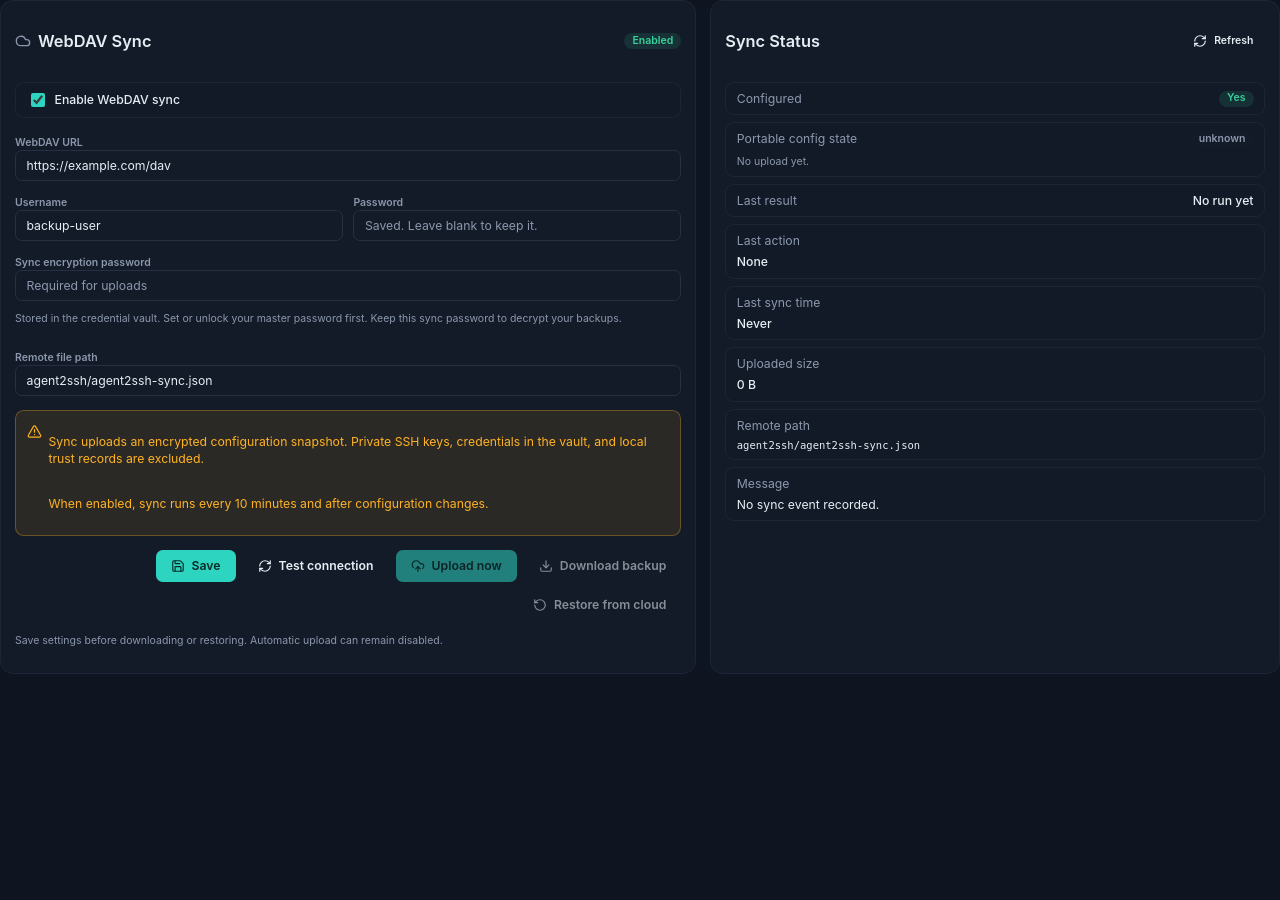
Test: SyncPanel encrypted upload settings › sends the new password only in the save request and clears it after saving
Check: the field labelled "WebDAV URL" holds "https://example.com/dav", box [15,150,681,181]
Check: the button "Save" is enabled, box [156,550,236,582]
Type "  test-encryption-password  " into the password field labelled "Sync encryption password" at [348, 286], box [15,270,681,301]
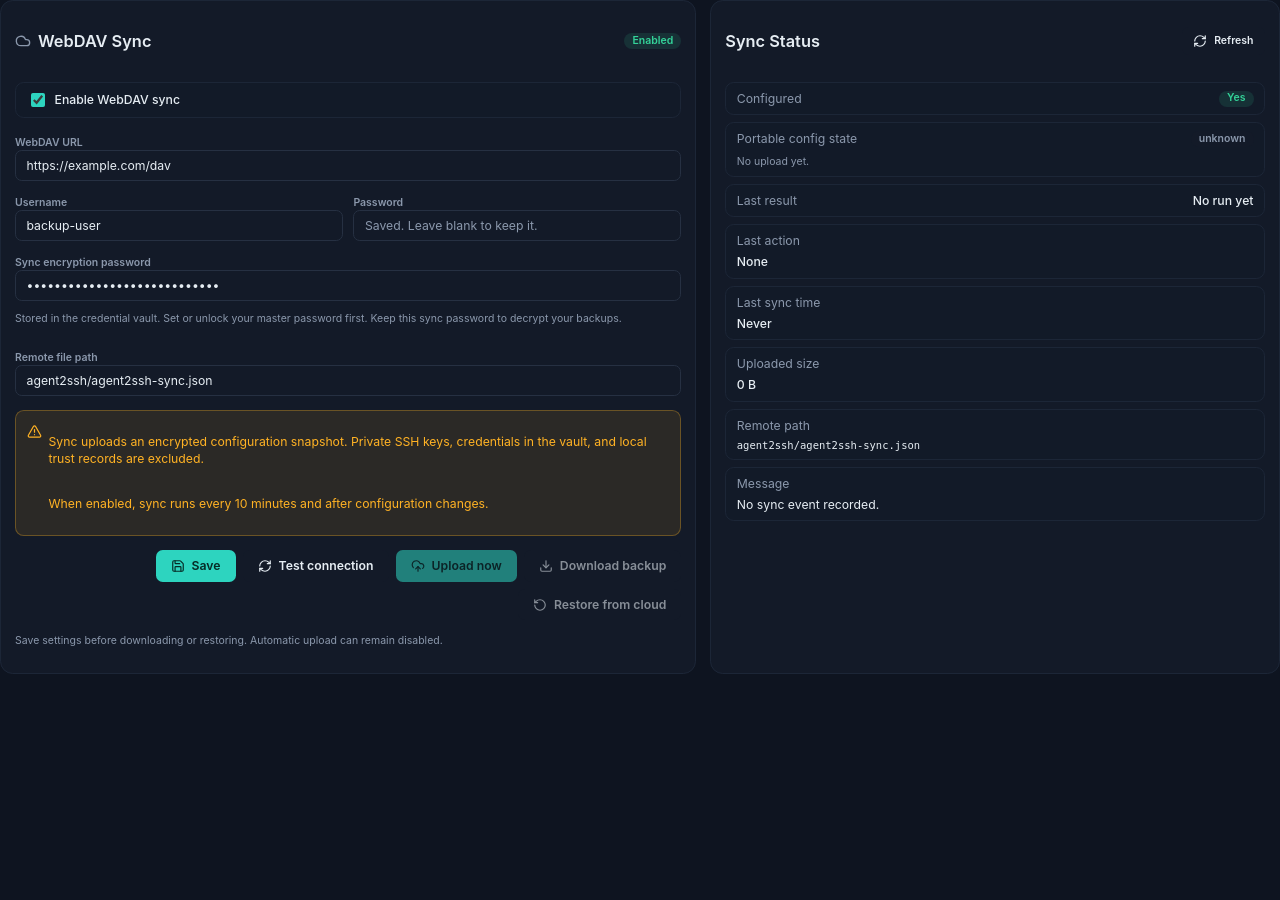
Click the button "Save" at [196, 566], box [156,550,236,582]
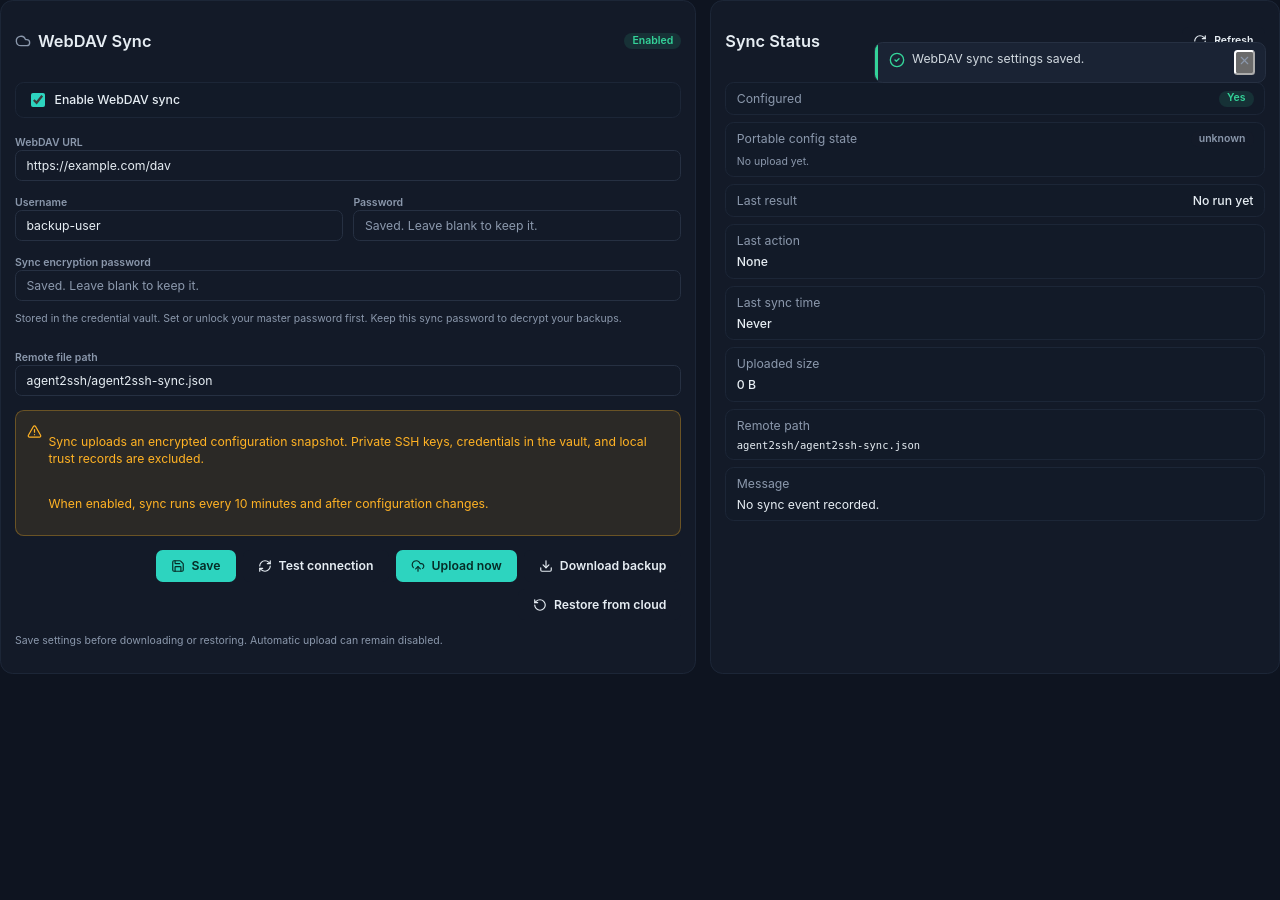
Check: the password field labelled "Sync encryption password" is empty, box [15,270,681,301]
Check: the button "Upload now" is enabled, box [396,550,517,582]
